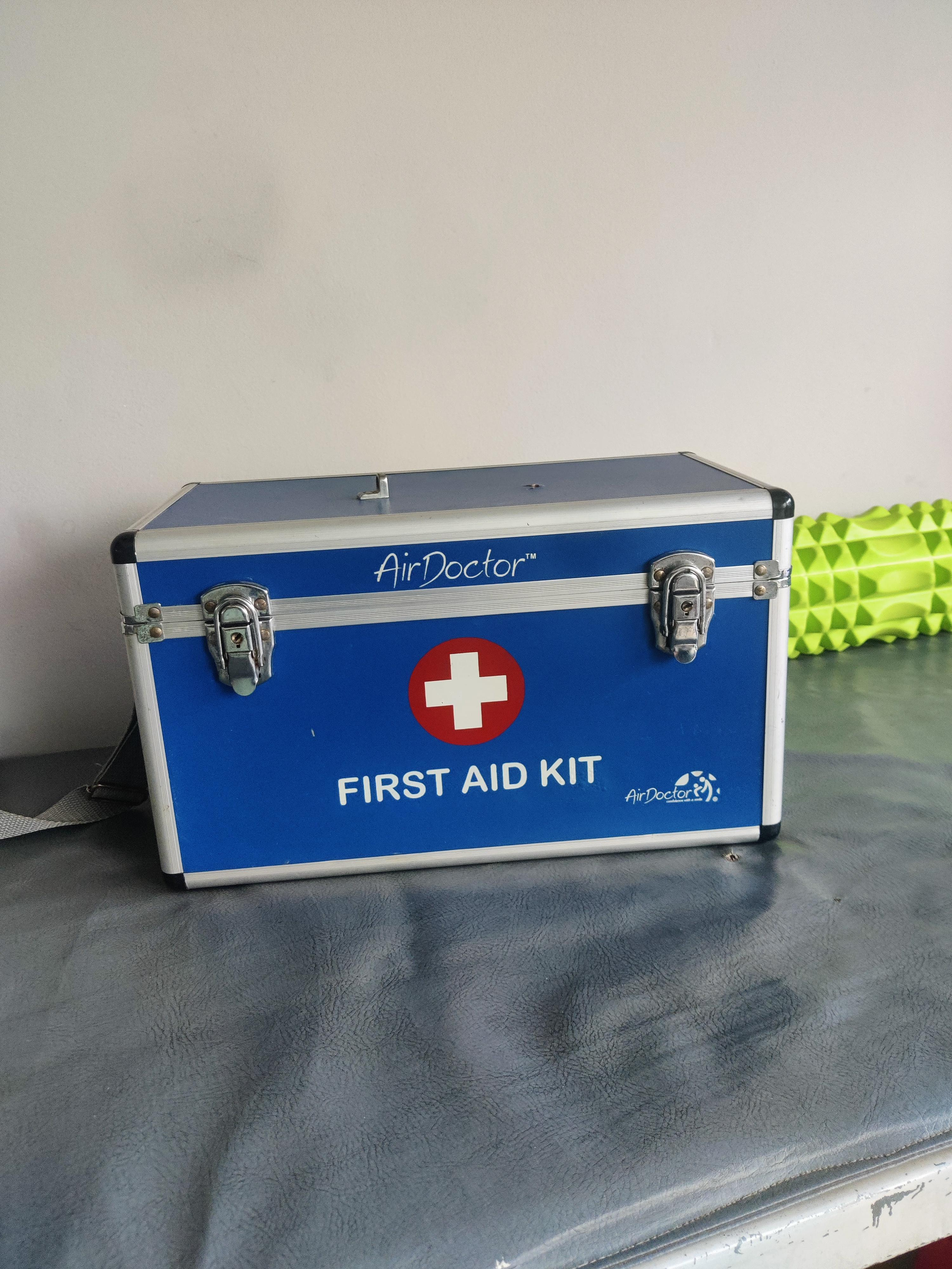FirstAidBox: (90, 418, 829, 921)
